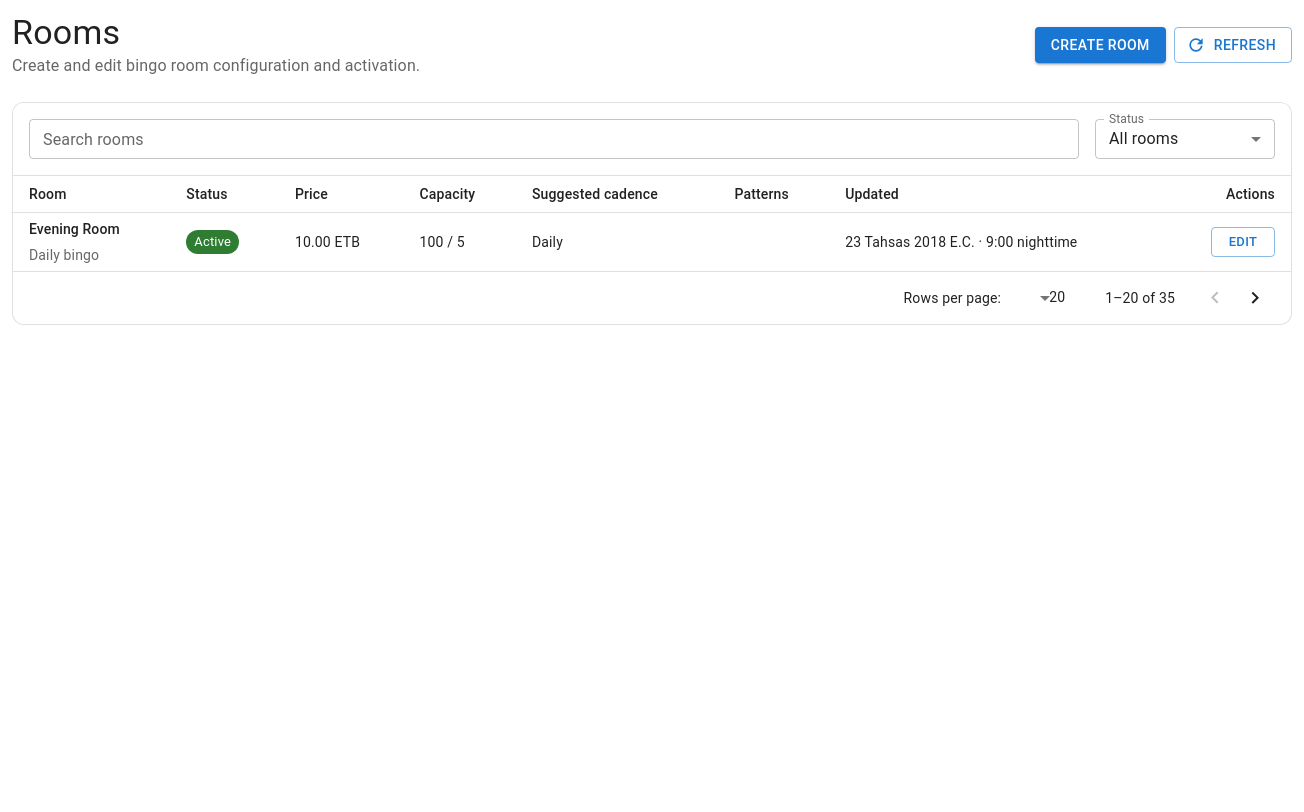
Test: RoomsPage › enables save for an edited room only while fields differ from the original
Click the button "Edit".
click(1243, 242)  # box [1211,227,1275,257]
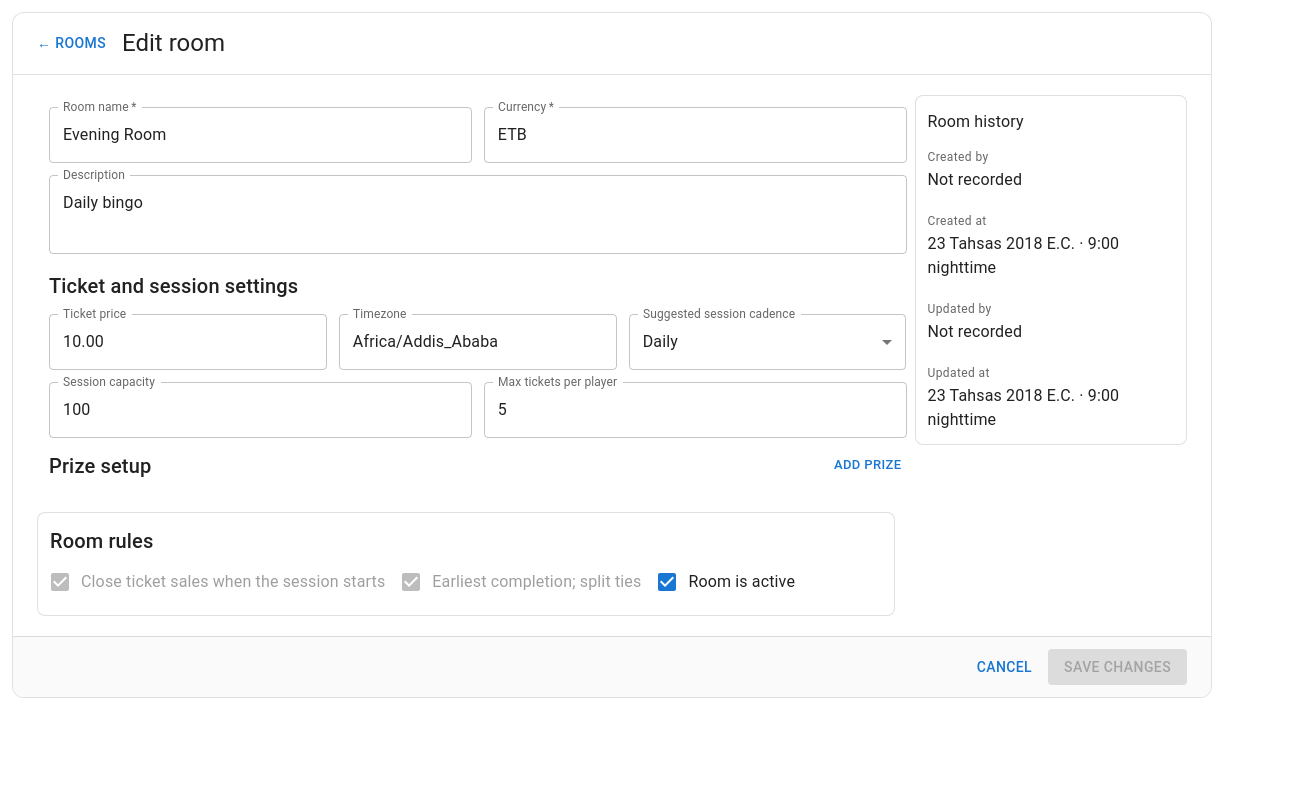
Expected: the heading "Edit room" is shown, [122,27,225,59]
Expected: the button "Save changes" is disabled, [1048,648,1187,685]
Replace the text in the field labelled "Room name" with "Updated Room" at [260, 134], box [49,106,472,162]
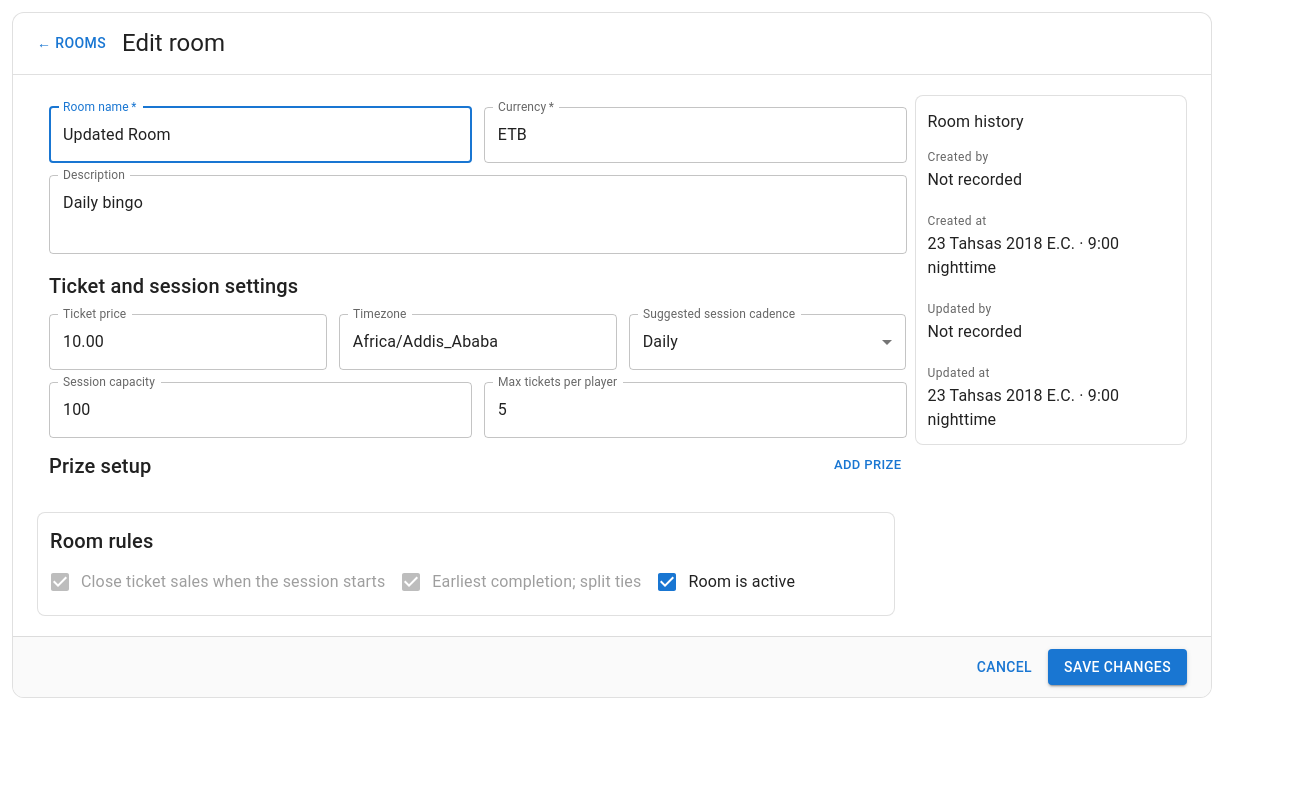
Expected: the button "Save changes" is enabled, [1048,648,1187,685]
Replace the text in the field labelled "Room name" with "Evening Room" at [260, 134], box [49,106,472,162]
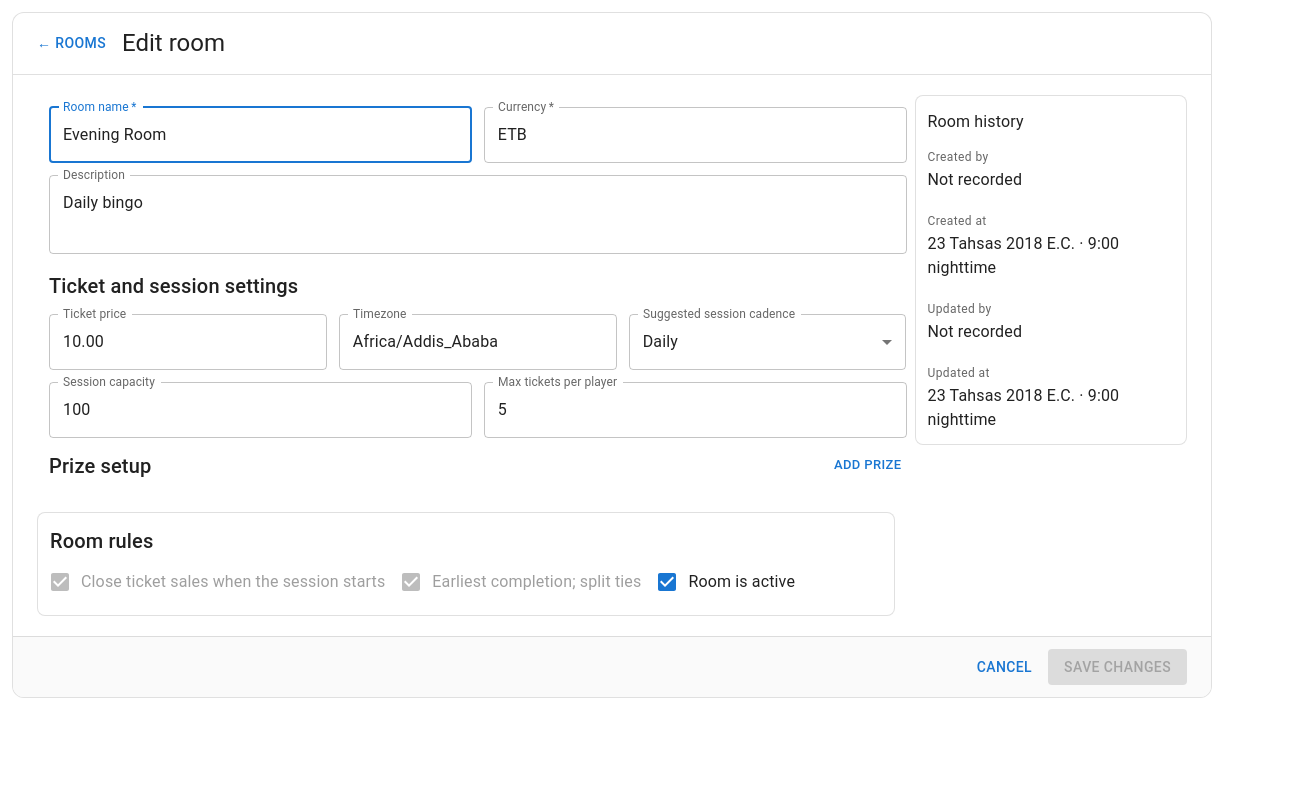
Expected: the button "Save changes" is disabled, [1048,648,1187,685]
